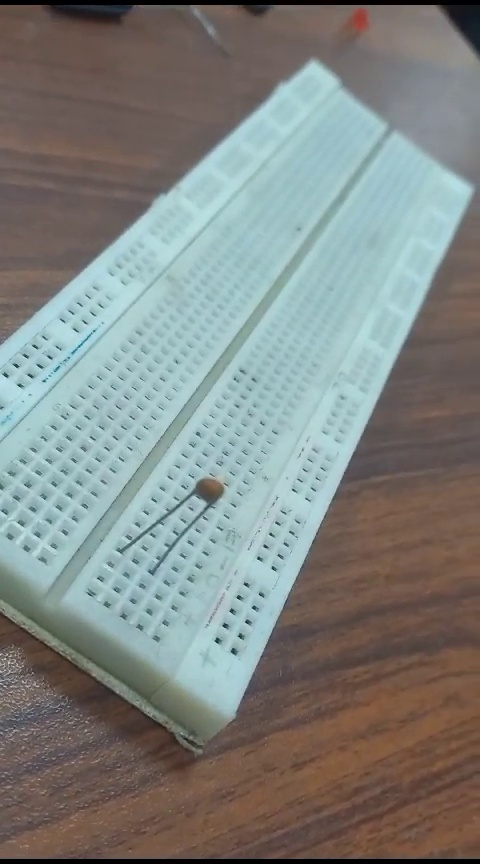ceramic capacitor: (118, 467, 228, 581)
